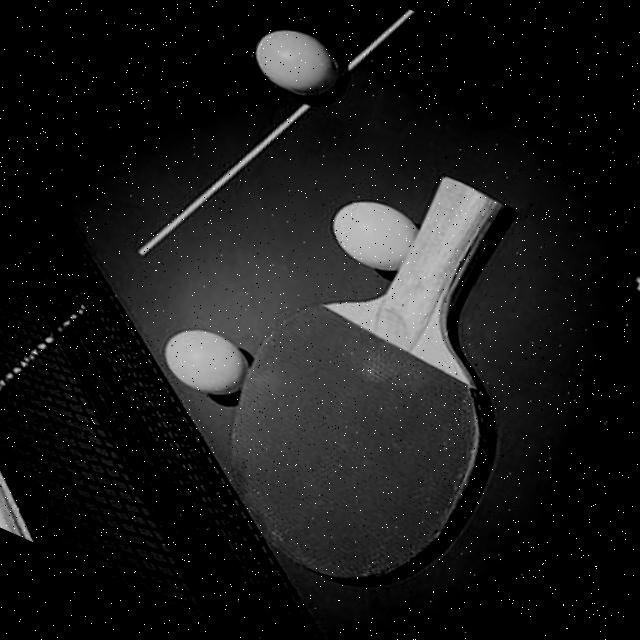ping-pong-ball: (236, 12, 356, 115), (311, 182, 424, 284), (145, 313, 258, 412)
